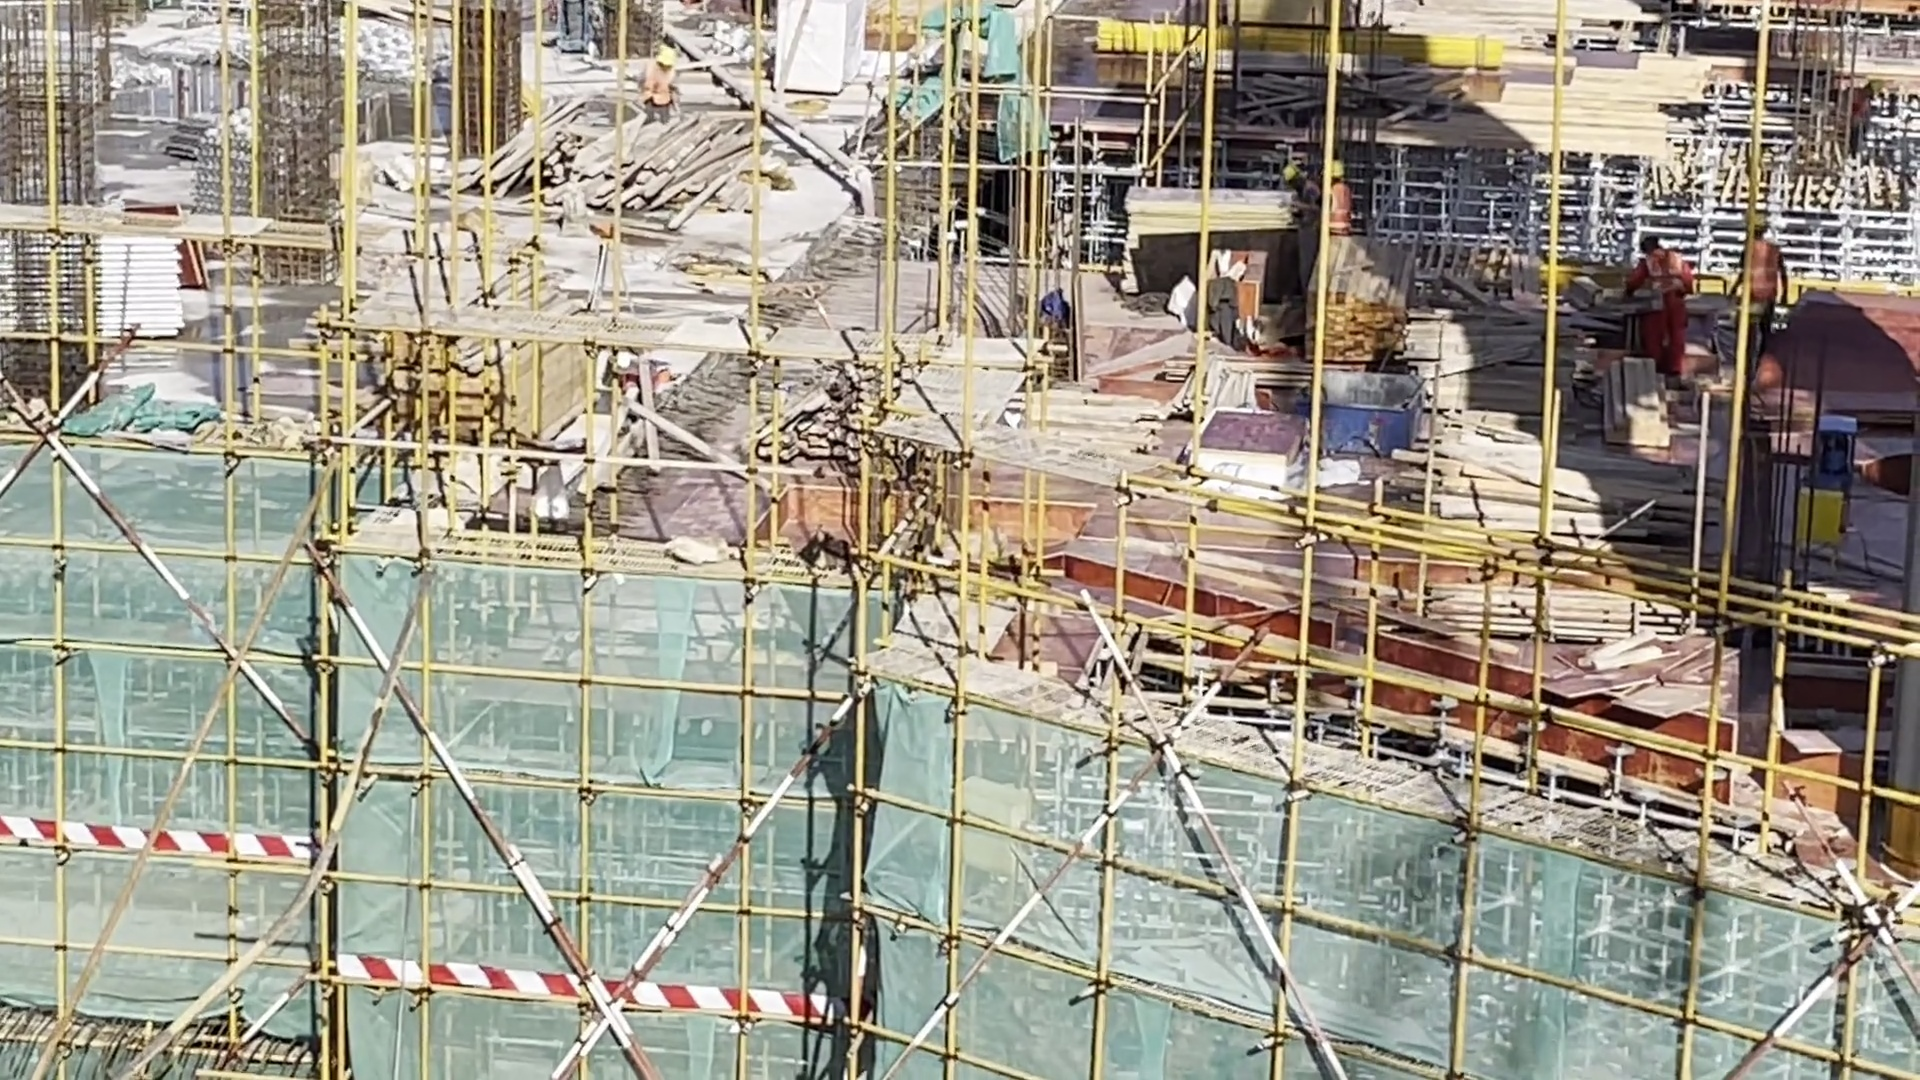board: (1544, 622, 1712, 739)
ebox: (1789, 484, 1847, 569)
helmet: (649, 44, 679, 76), (1746, 211, 1773, 241), (1635, 229, 1659, 260), (606, 350, 630, 371), (1274, 163, 1298, 184)
hopper: (1300, 357, 1435, 461)
person: (1627, 238, 1687, 374), (1745, 209, 1788, 361), (629, 43, 683, 119), (1281, 164, 1326, 249), (602, 351, 674, 397), (1311, 163, 1354, 234)
scaffold: (4, 229, 175, 348), (197, 133, 263, 223)
vest: (1635, 257, 1682, 326), (1742, 247, 1780, 307), (641, 67, 676, 105), (1326, 184, 1353, 226)
wood: (333, 226, 592, 478), (477, 101, 732, 227), (1385, 408, 1617, 539), (1401, 571, 1663, 655), (1300, 239, 1422, 370)
